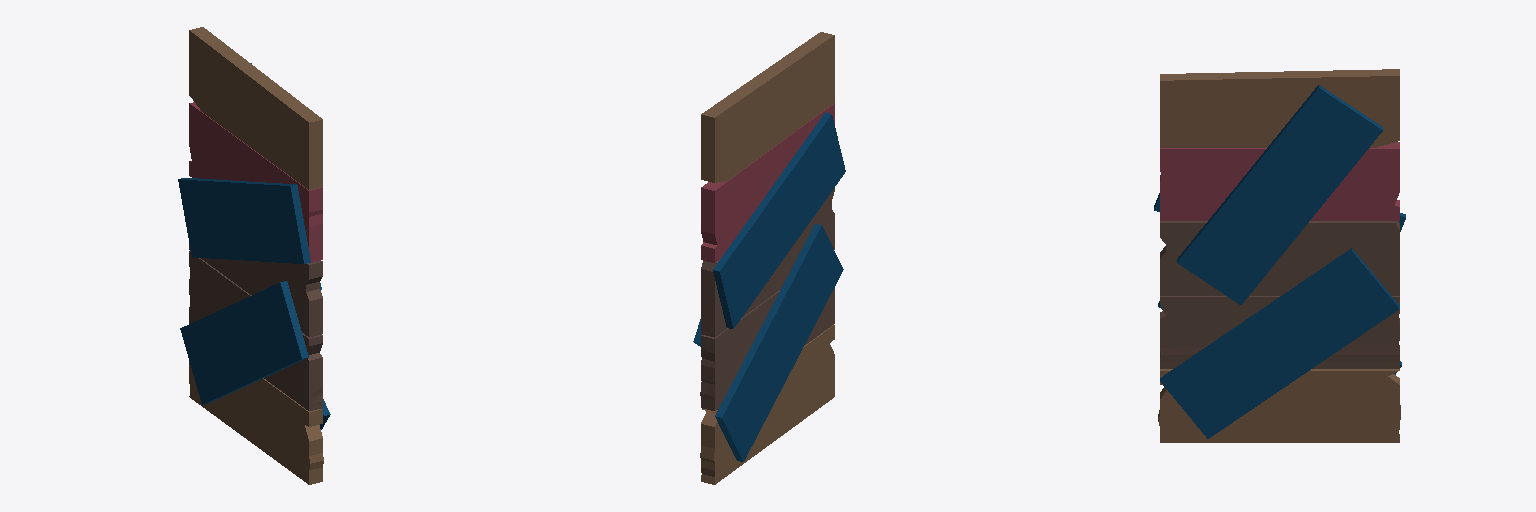
File: palet.obj
The picture shows the model from 3 angles: view 1: azimuth 30°, elevation 25°; view 2: azimuth 150°, elevation 25°; view 3: azimuth 270°, elevation 25°; orthographic projection.
Size of the model in its own units: 2.15 by 25.35 by 15.8.